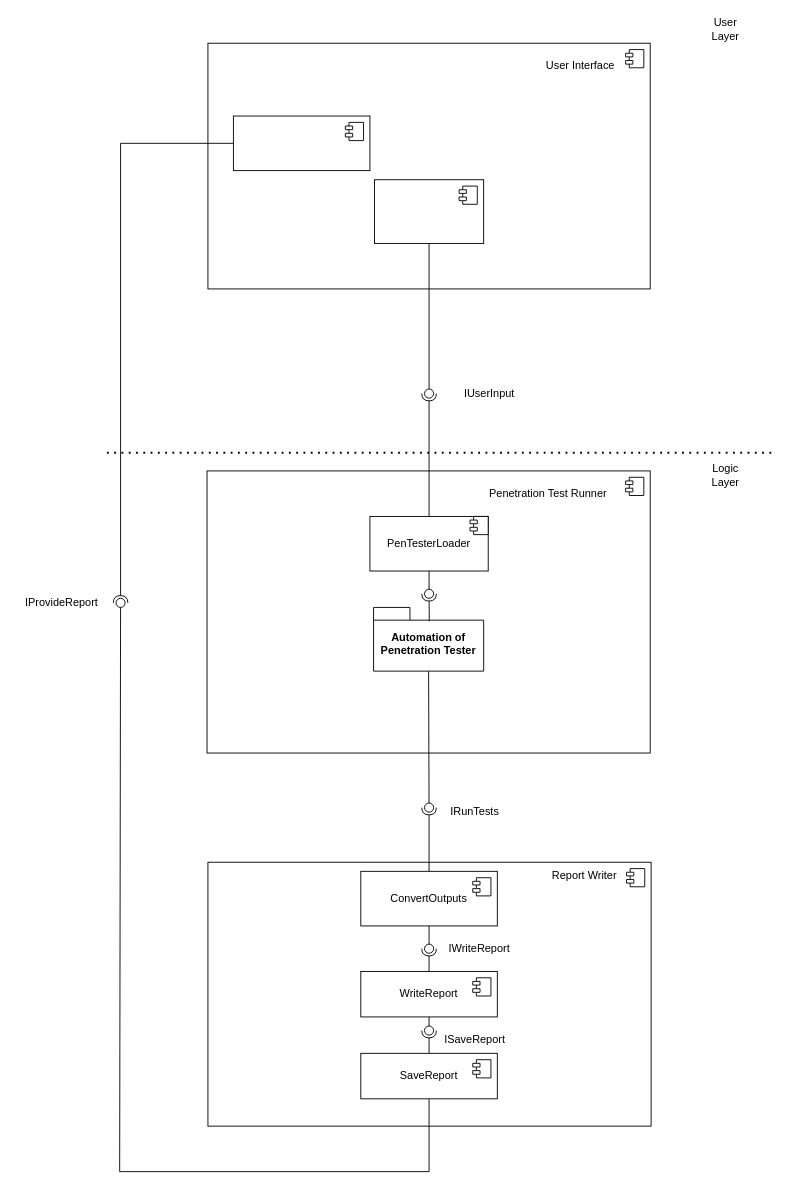
This 788x1198 diagram has some shape labels left out. Here are the shapes that lost their labels. From the top down, the box of each, then its label:
(233, 115, 370, 171): ViewReportOption
(374, 179, 484, 243): PreferenceSelection
